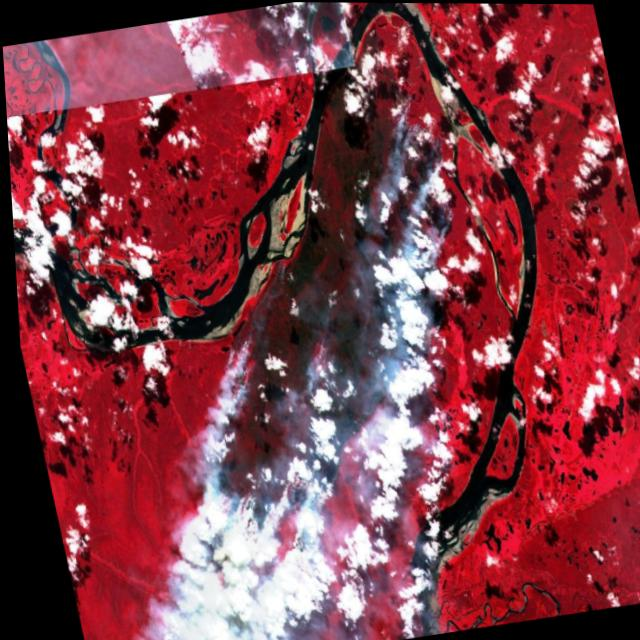fire: (151, 290, 376, 587), (340, 40, 496, 314)
